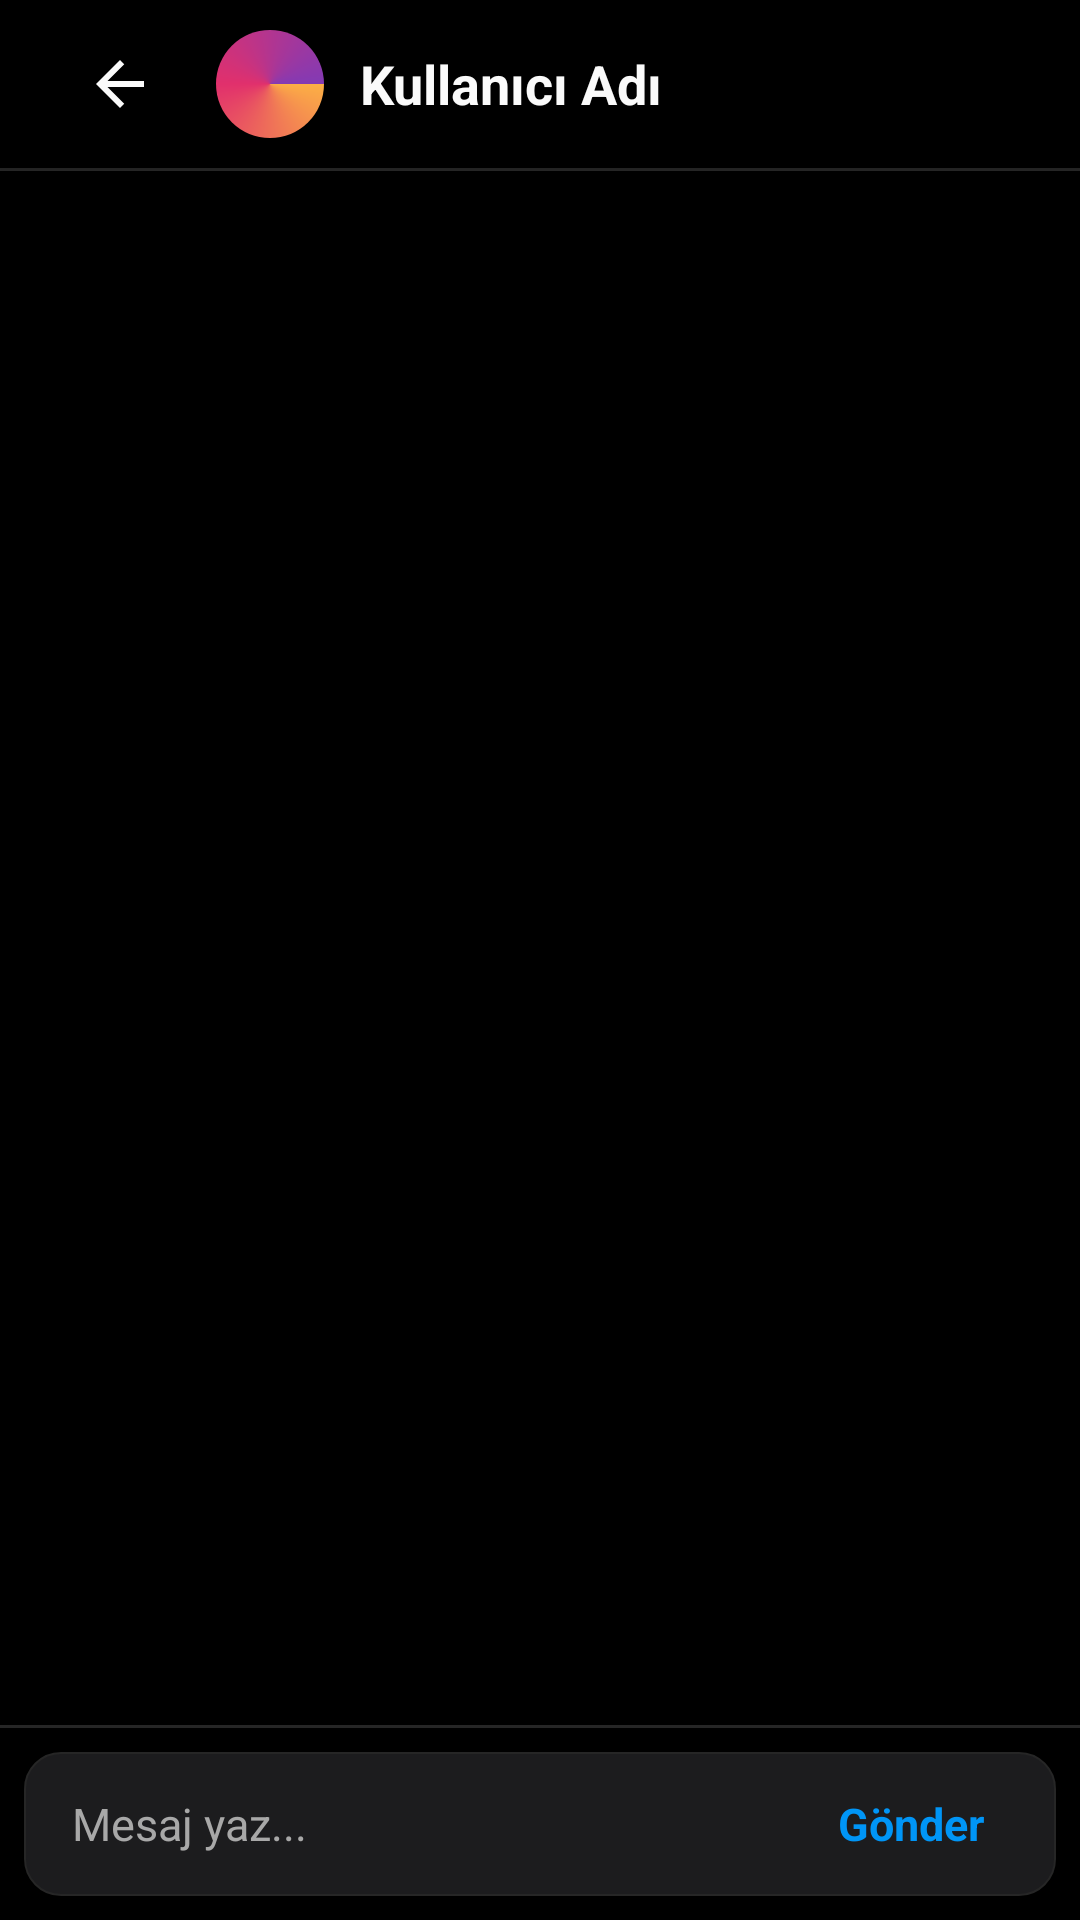

Where to tap for icons on this 1080×1920 app screen, as (x=x, y=y):
Geri: (x=120, y=84)
